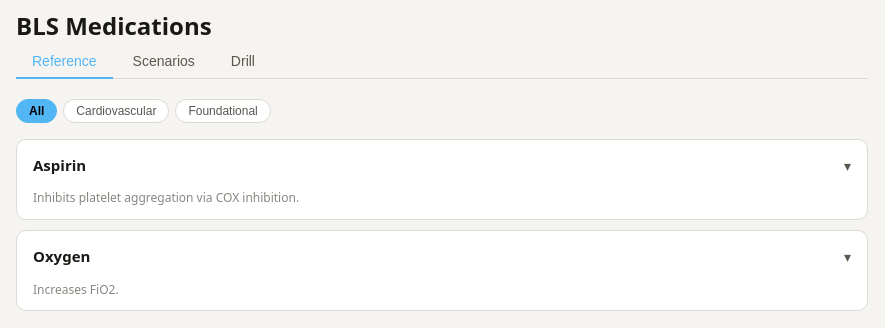
Test: BlsMedsView — Scenarios tab › shows vignette text in scenario session
Step 1. Click the button "Scenarios" → (164, 62), box [117,45,211,79]
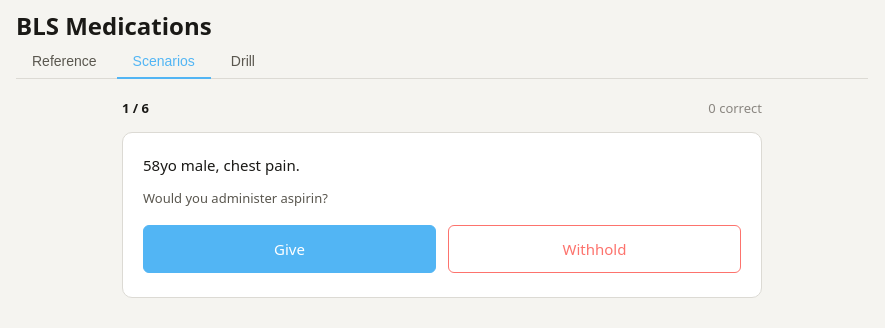
Now the text "58yo male, chest pain." is shown, box [143,155,300,175]
